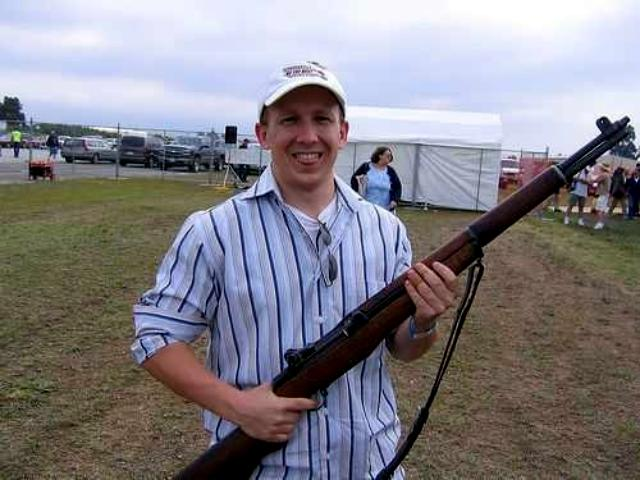rifle: (140, 110, 636, 480)
